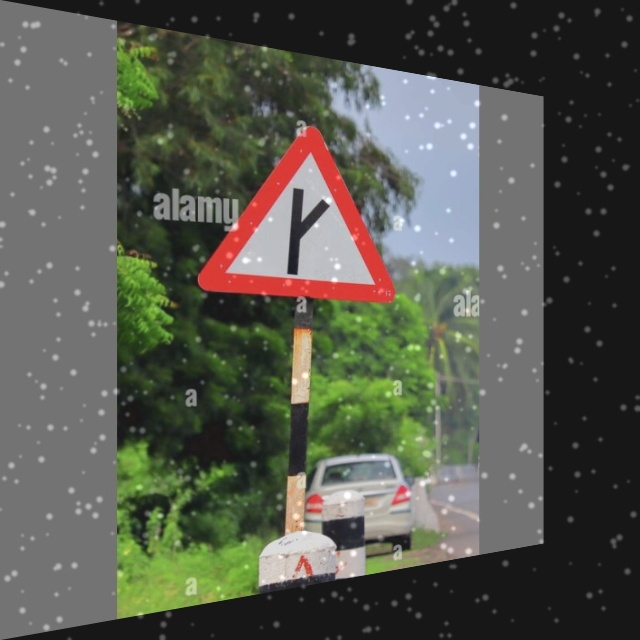Y_Intersection: (198, 108, 402, 307)
